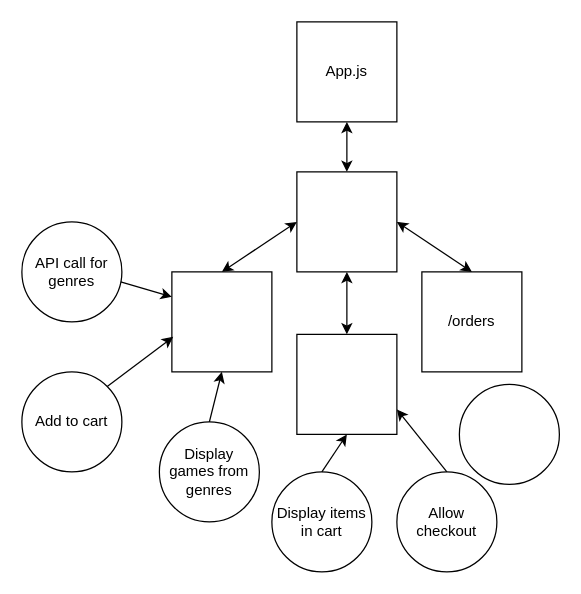
This 581x594 diagram has some shape labels left out. Each missing label, with the centre of its shape:
"/cart" belongs at point (346, 383).
"/games" belongs at point (221, 321).
"Checkout button saves order" belongs at point (508, 433).
"Navbar" belongs at point (346, 221).
